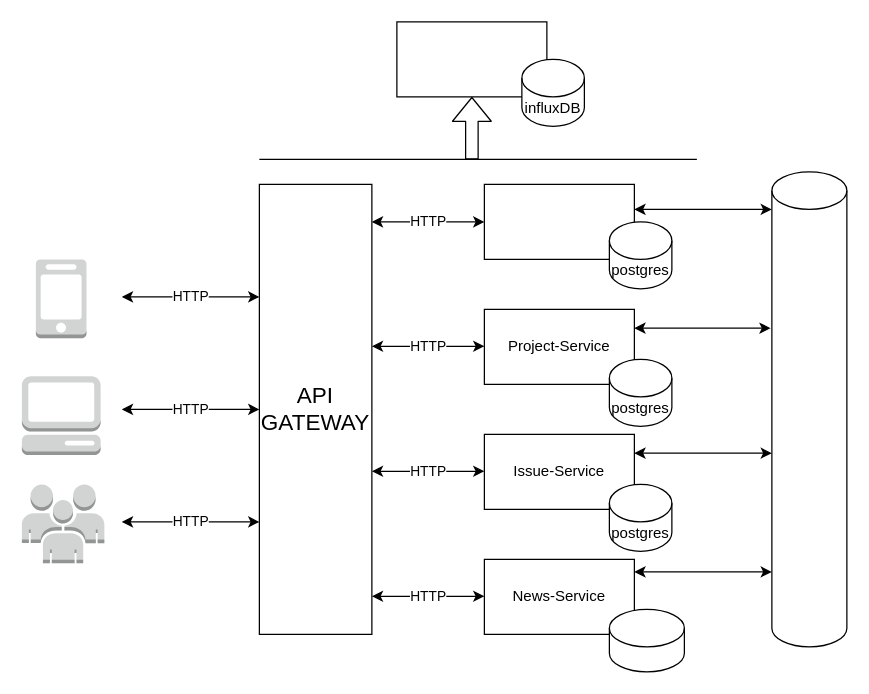
Image size: 869x694. Some labels were removed from this diagram. Here are the shapes that lost their labels. From the top down, the centre of each, then its label:
At [471,59]: "Grafana".
At [558,221]: "User-Service".
At [809,409]: "ActiveMQ".
At [646,640]: "MongoDB".
